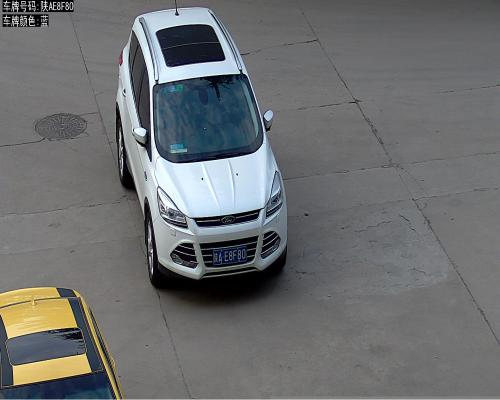Carplate: (212, 245, 248, 267)
